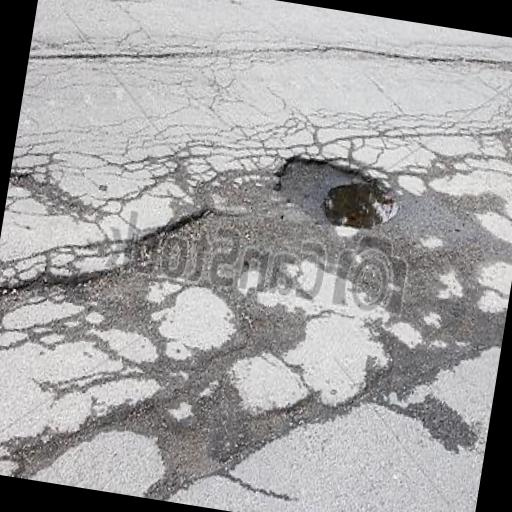pothole: (268, 142, 412, 237), (135, 193, 219, 255)
